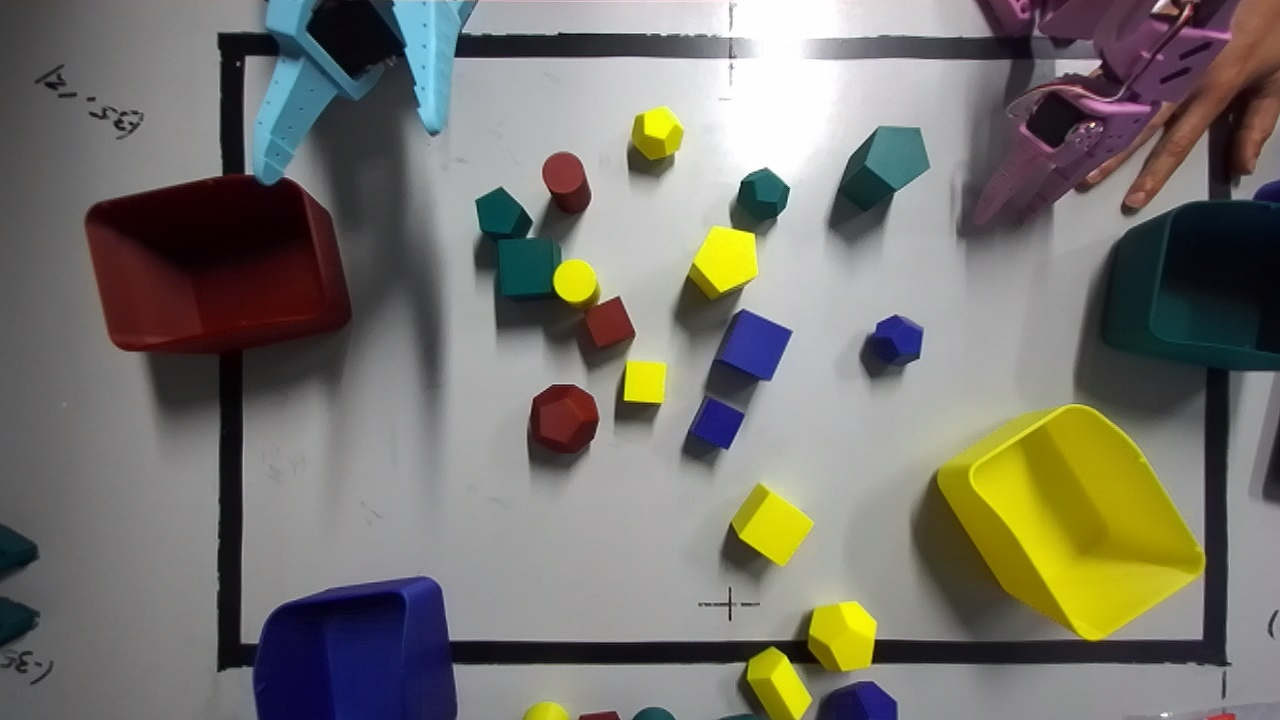bin: (937, 404, 1204, 639), (85, 174, 350, 353), (1102, 200, 1279, 369), (252, 577, 456, 719)
cube: (731, 484, 812, 565), (715, 310, 792, 380), (496, 238, 560, 296), (687, 395, 744, 449), (584, 296, 635, 347), (623, 360, 666, 404)
cylinder: (542, 151, 590, 213), (553, 259, 599, 307)
dodecahedron: (529, 384, 598, 452), (808, 601, 876, 670), (736, 167, 789, 220), (631, 106, 683, 159), (869, 315, 923, 363)
hexagonal: (839, 126, 929, 210), (688, 226, 757, 299), (475, 187, 532, 238)
